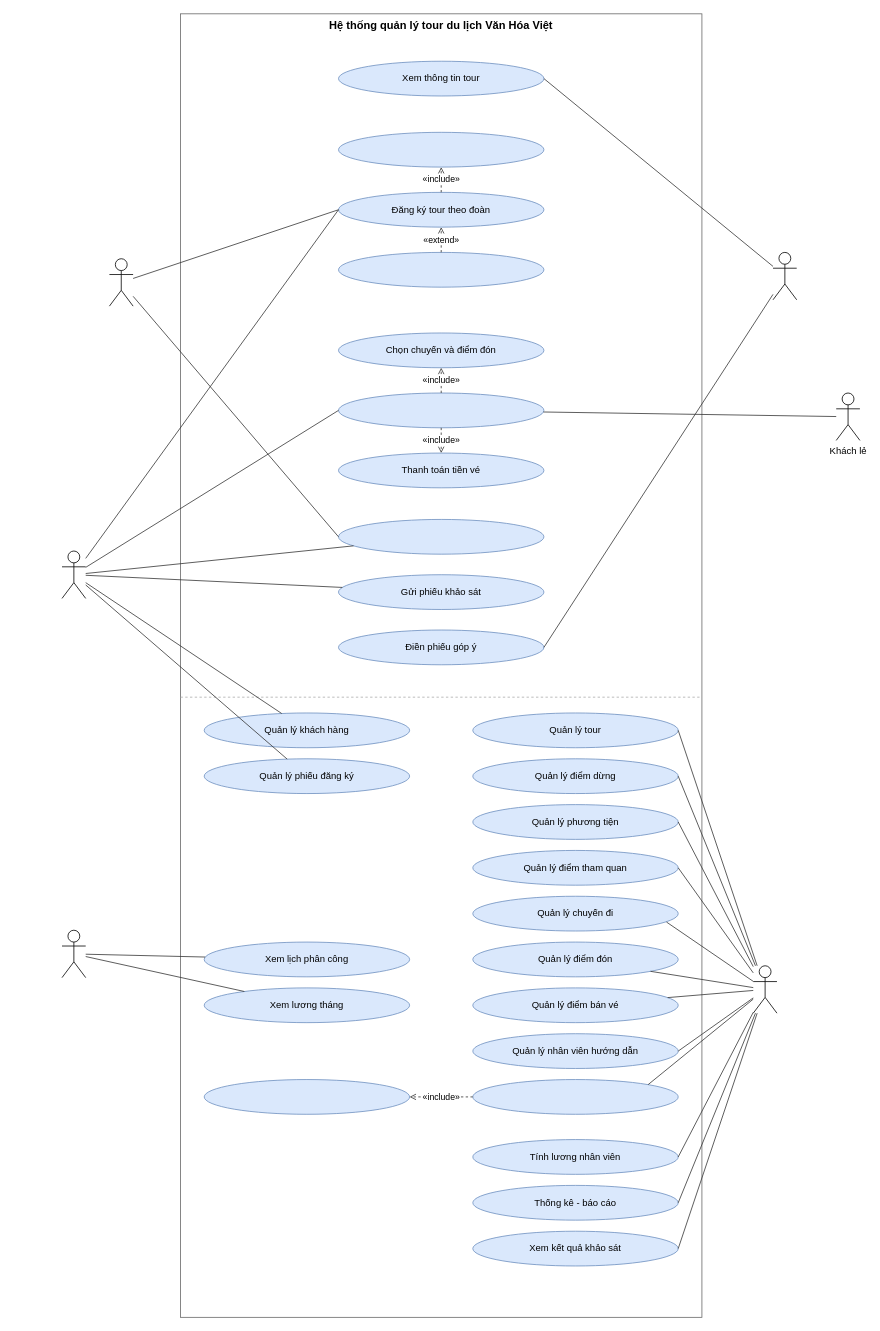
This 880x1331 diagram has some shape labels left out. The shapes that lost their labels are listed below. From the top down, each one's centre as x and y in pixels, then its label:
At (x=441, y=149): "Đặt cọc".
At (x=121, y=282): "Khách đoàn".
At (x=441, y=269): "Nhập DS người đi (có bảo hiểm)".
At (x=784, y=276): "Khách hàng".
At (x=441, y=410): "Đăng ký tour theo chuyến".
At (x=441, y=536): "Thanh toán kinh phí tour đoàn".
At (x=73, y=574): "Nhân viên tiếp nhận / bán vé".
At (x=73, y=953): "Nhân viên hướng dẫn".
At (x=764, y=989): "Quản lý / Điều hành".
At (x=306, y=1096): "Kiểm tra trùng lịch".
At (x=575, y=1096): "Phân công hướng dẫn viên".
